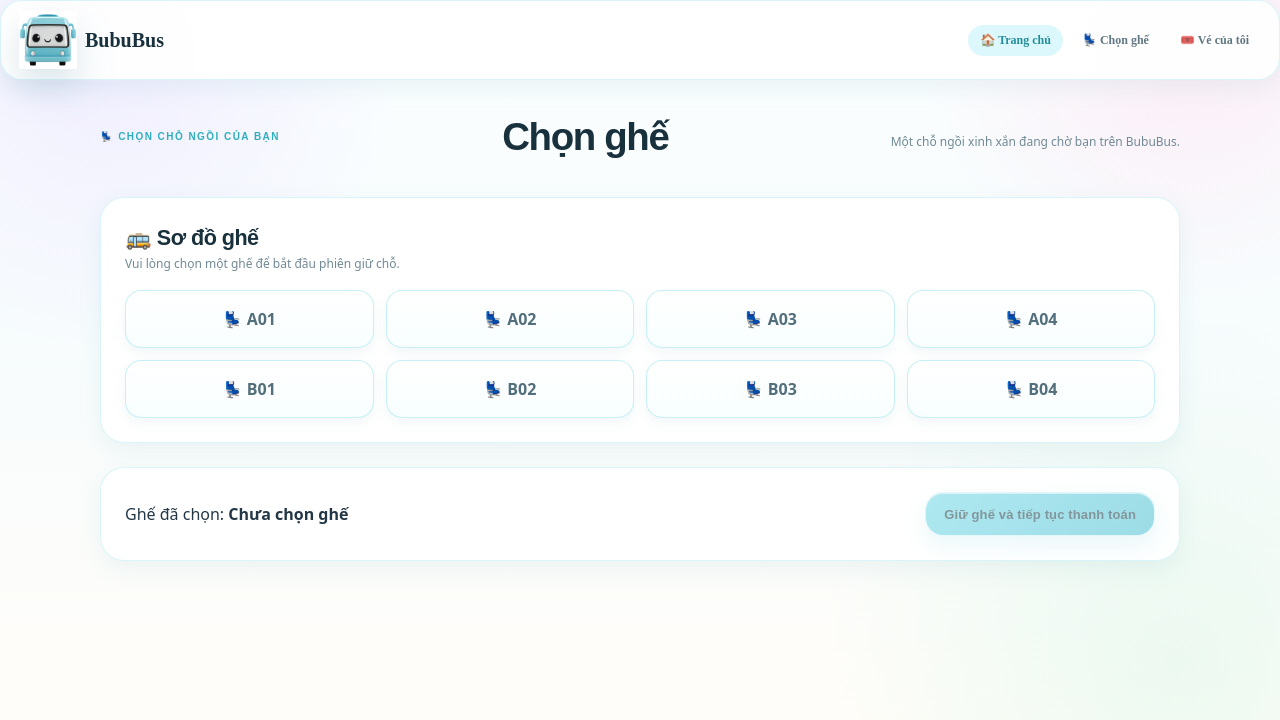
SelectSeat › tạo phiên giữ chỗ sau khi chọn ghế
Click the button "💺 A01": (249, 319) 125,290 -> 374,348
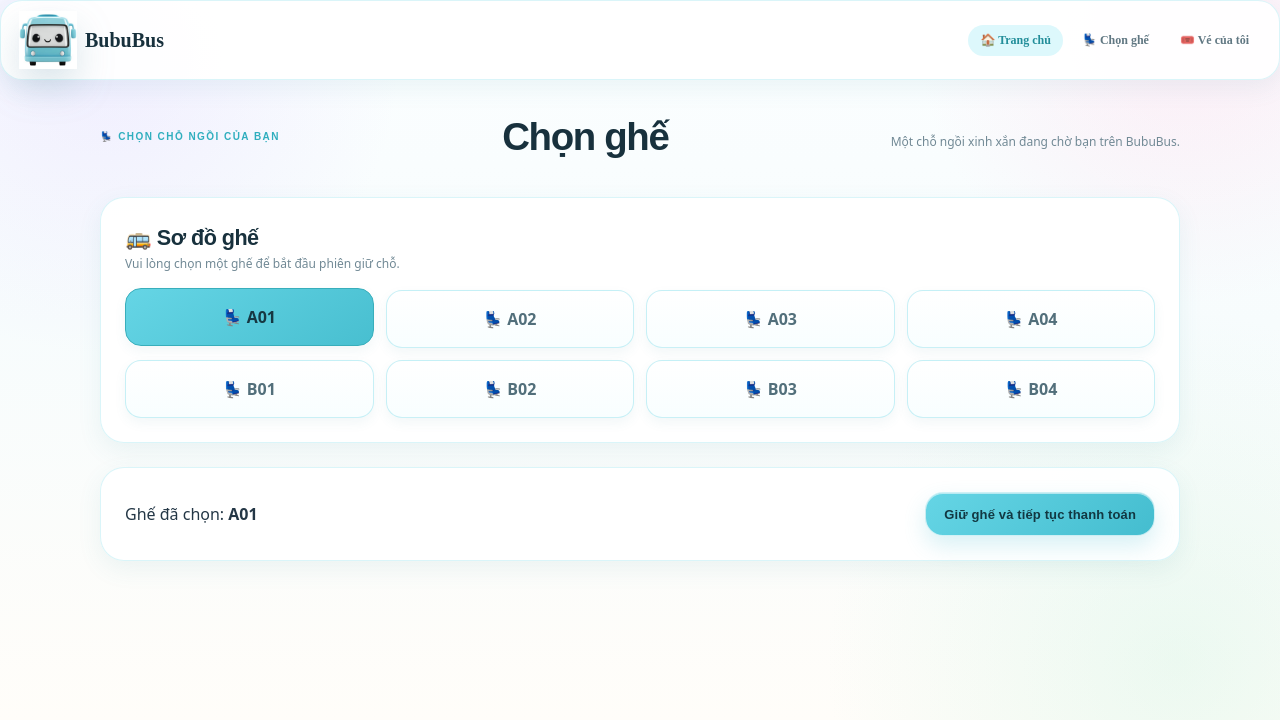
Click the button "Giữ ghế và tiếp tục thanh toán": (1040, 514) 925,492 -> 1155,536
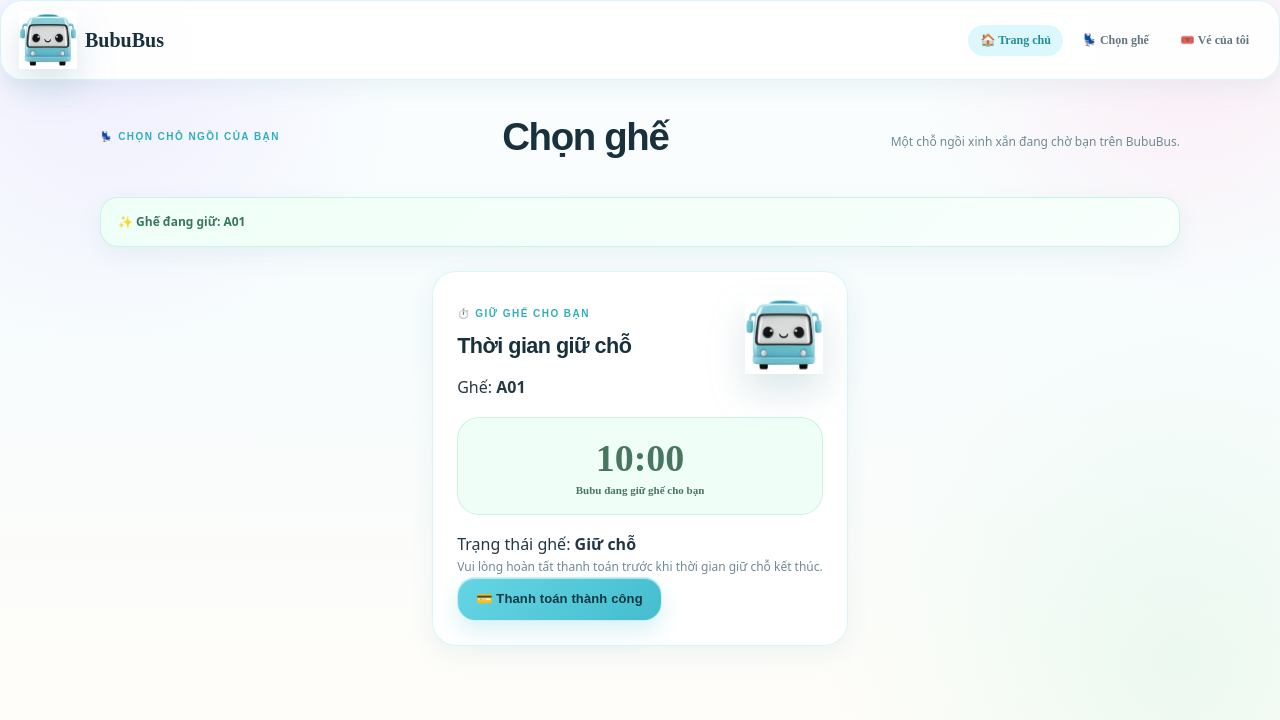
Result: the heading "Thời gian giữ chỗ" is shown at 457,330 -> 631,363
Result: the text "10:00" is shown at 596,436 -> 684,480
Result: the text "✨ Ghế đang giữ: A01" is shown at 118,213 -> 246,230
